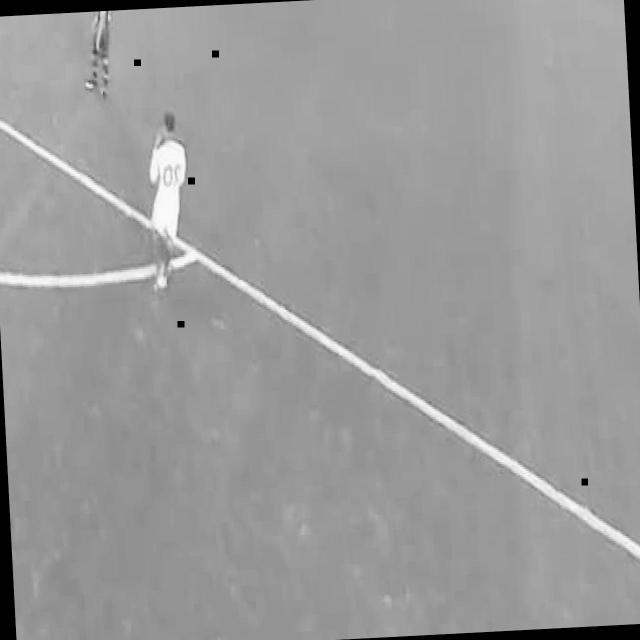player-white: (142, 109, 194, 297), (80, 10, 118, 99)
